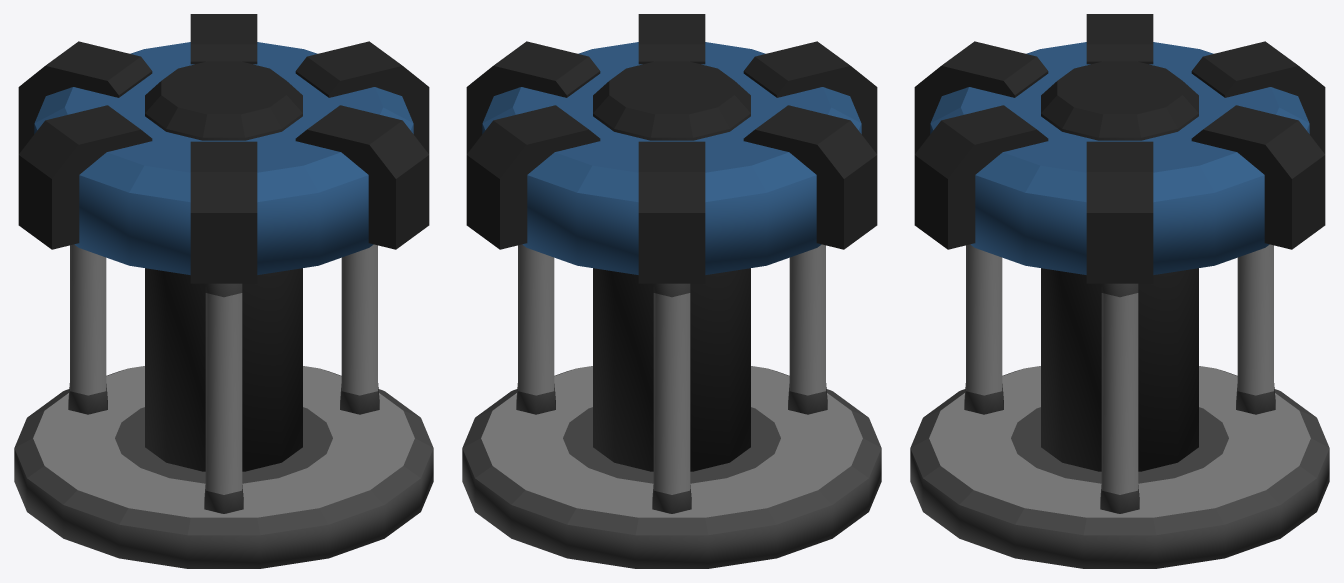
File: hammer.fbx
3 renders of one model, left to right at view 1: azimuth 30°, elevation 25°; view 2: azimuth 150°, elevation 25°; view 3: azimuth 270°, elevation 25°, orthographic.
Parts seen in each view (by area): view 1: Hammer, Base; view 2: Hammer, Base; view 3: Hammer, Base.
Part boxes in pixels (x1,y1,x2,y2): Hammer: [18, 14, 429, 513]; Base: [14, 366, 433, 568]; Hammer: [466, 14, 877, 513]; Base: [462, 366, 881, 568]; Hammer: [914, 14, 1325, 513]; Base: [910, 366, 1329, 568].
Size of the model in its own units: 112 by 112 by 108.
